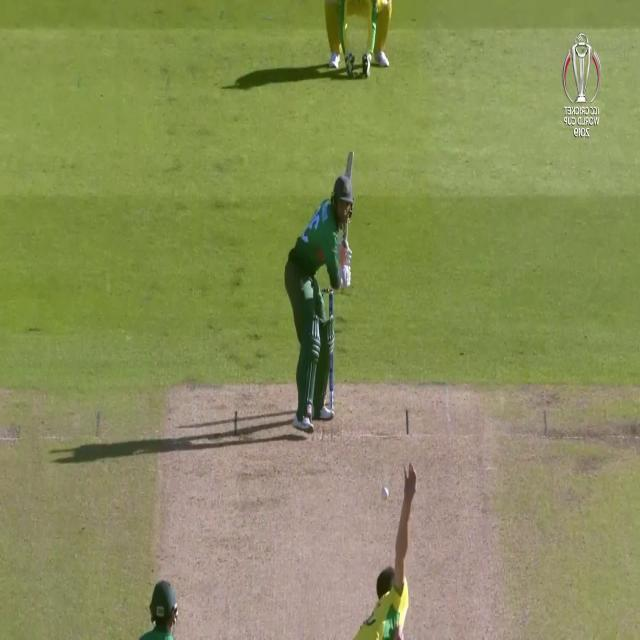ball: (378, 483, 392, 502)
